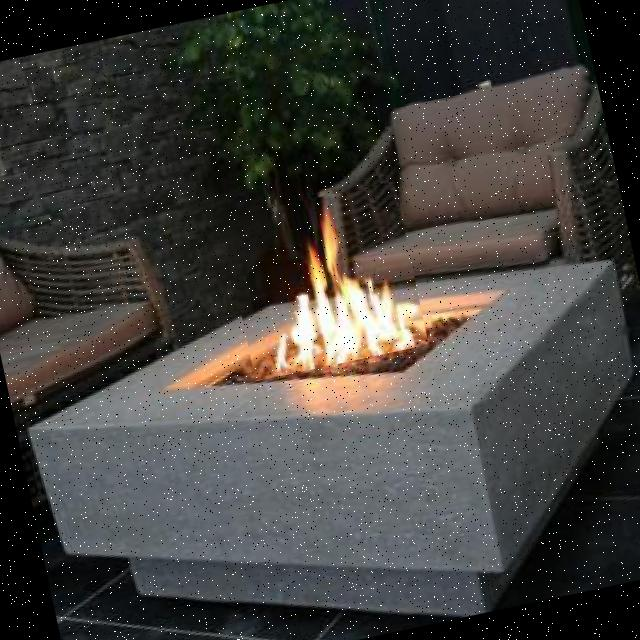fire: (221, 180, 428, 380)
